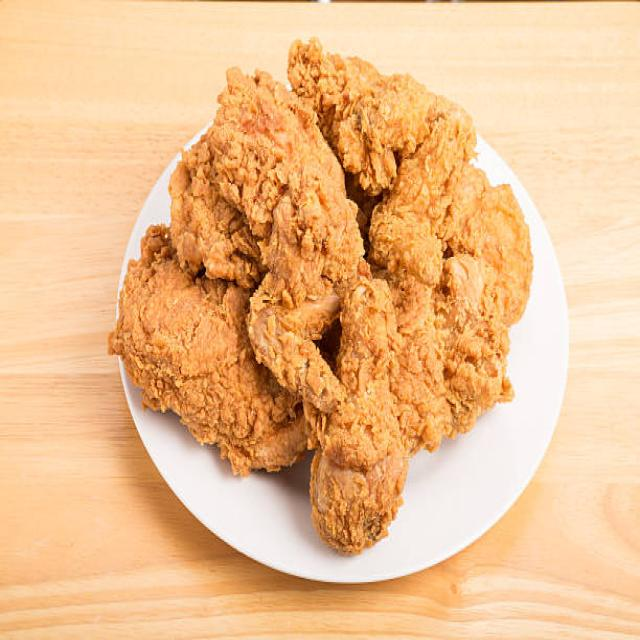Frango: (108, 34, 538, 558)
